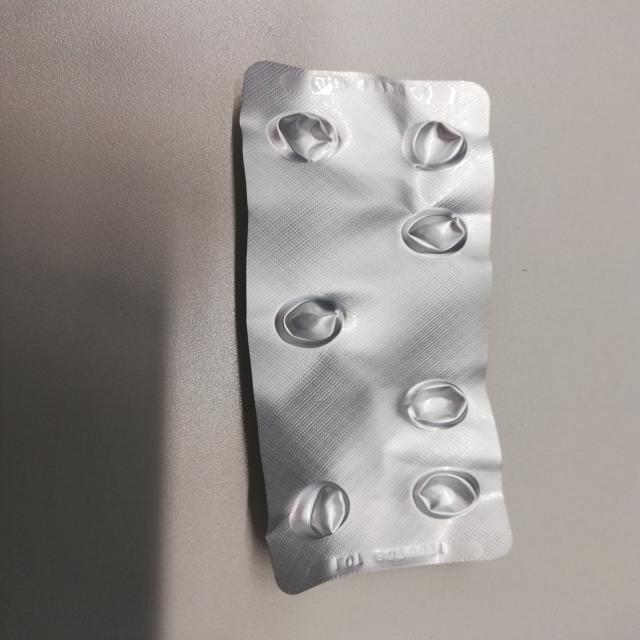Empty: (260, 105, 349, 168), (270, 293, 353, 352), (392, 116, 472, 172), (285, 478, 355, 542), (396, 203, 474, 259), (406, 465, 484, 520), (397, 376, 472, 430)
